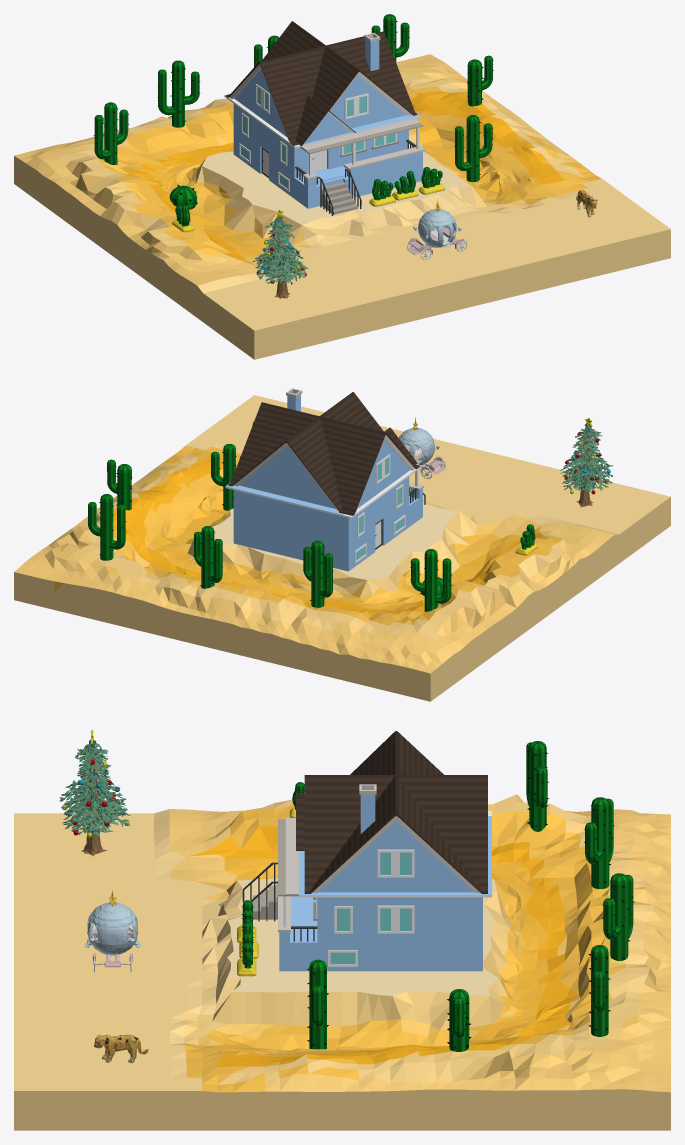
3 views of the same model, one above another, from view 1: azimuth 30°, elevation 25°; view 2: azimuth 150°, elevation 25°; view 3: azimuth 270°, elevation 25° (orthographic). The views are drawn at different scales.
Visible parts, largest first — view 1: Cube.001, Cube.1594, OBJRANDOM_CHRISTMAS_TREE, VEHICLES_FANTASY_CARRIAGE, Cylinder.037, Cylinder.044, Cylinder.045, Cylinder.038, Cylinder.042, Cylinder.039, Cylinder.041, Sphere.023 (+1 smaller); view 2: Cube.001, Cube.1594, OBJRANDOM_CHRISTMAS_TREE, Cylinder.042, Cylinder.045, Cylinder.044, Cylinder.043, VEHICLES_FANTASY_CARRIAGE, Cylinder.037, Cylinder.038; view 3: Cube.001, Cube.1594, OBJRANDOM_CHRISTMAS_TREE, VEHICLES_FANTASY_CARRIAGE, Cylinder.043, Cylinder.044, Cylinder.045, Cylinder.042, Cylinder.037, Cylinder.038, ANIMAL_JAGUAR, Cylinder.041.
Boxes of the visible parts, bbox=[...] form: Cube.001: bbox=[14, 54, 670, 359]; Cube.1594: bbox=[224, 21, 425, 215]; OBJRANDOM_CHRISTMAS_TREE: bbox=[252, 210, 308, 298]; VEHICLES_FANTASY_CARRIAGE: bbox=[406, 199, 467, 260]; Cylinder.037: bbox=[454, 115, 493, 182]; Cylinder.044: bbox=[157, 60, 200, 127]; Cylinder.045: bbox=[93, 102, 129, 164]; Cylinder.038: bbox=[467, 55, 493, 106]; Cylinder.042: bbox=[371, 14, 409, 62]; Cylinder.039: bbox=[369, 179, 395, 206]; Cylinder.041: bbox=[418, 167, 445, 194]; Sphere.023: bbox=[169, 184, 197, 209]; Cube.001: bbox=[14, 395, 670, 701]; Cube.1594: bbox=[225, 388, 425, 571]; OBJRANDOM_CHRISTMAS_TREE: bbox=[560, 417, 613, 507]; Cylinder.042: bbox=[88, 494, 126, 560]; Cylinder.045: bbox=[410, 549, 452, 611]; Cylinder.044: bbox=[303, 540, 333, 607]; Cylinder.043: bbox=[193, 526, 222, 588]; VEHICLES_FANTASY_CARRIAGE: bbox=[398, 418, 446, 479]; Cylinder.037: bbox=[211, 444, 240, 510]; Cylinder.038: bbox=[107, 459, 131, 510]; Cube.001: bbox=[14, 794, 670, 1130]; Cube.1594: bbox=[242, 731, 491, 971]; OBJRANDOM_CHRISTMAS_TREE: bbox=[59, 730, 130, 856]; VEHICLES_FANTASY_CARRIAGE: bbox=[85, 890, 140, 972]; Cylinder.043: bbox=[602, 873, 634, 960]; Cylinder.044: bbox=[584, 797, 614, 888]; Cylinder.045: bbox=[526, 741, 548, 831]; Cylinder.042: bbox=[588, 945, 610, 1036]; Cylinder.037: bbox=[307, 959, 328, 1049]; Cylinder.038: bbox=[447, 989, 471, 1051]; ANIMAL_JAGUAR: bbox=[94, 1034, 148, 1063]; Cylinder.041: bbox=[237, 933, 256, 976].
Bounding box in the file's own units: 4002 × 1643 × 4001.
Materials: 33 (2 with a texture image).
